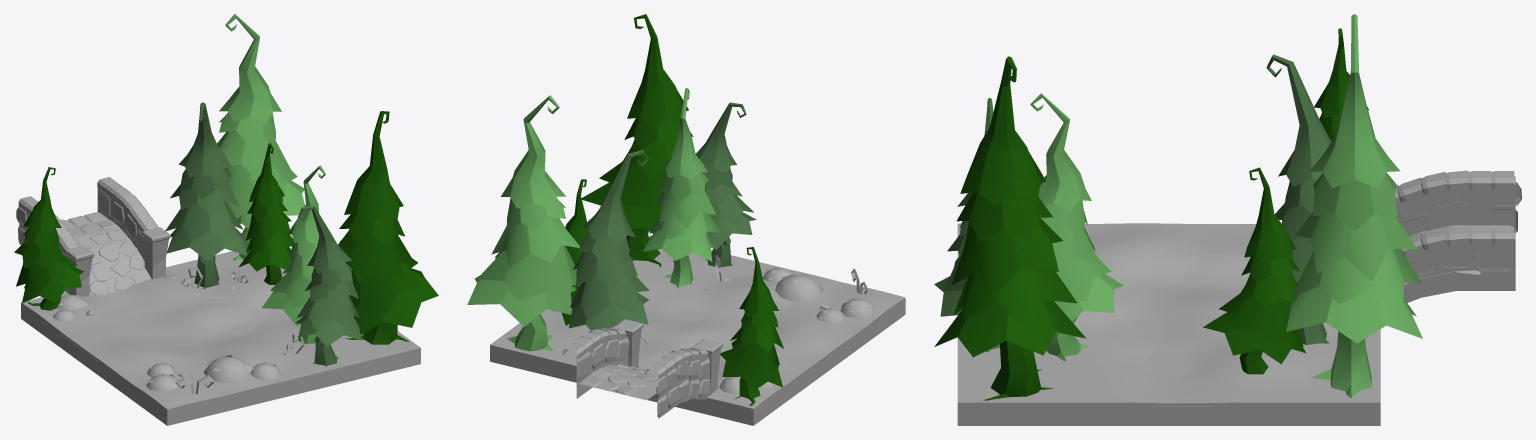
The model's file is entree_foret_v1.fbx.
The picture shows the model from 3 angles, left to right: view 1: azimuth 30°, elevation 25°; view 2: azimuth 150°, elevation 25°; view 3: azimuth 270°, elevation 25°; orthographic projection. The views are drawn at different scales.
Visible parts, largest first — view 1: sol26, sapin13, Pont, sapin8, sapin9, sol10, sapin11, sapin26, sapin10, sapin12, Buisson32, Buisson30 (+1 smaller); view 2: sol26, sapin8, Pont, sapin13, sapin9, sapin12, sol10, sapin26, sapin11, sapin10, Buisson32, Buisson30; view 3: sol26, sapin8, sapin13, Pont, sol10, sapin10, sapin12, sapin9, sapin26, sapin11.
Part boxes in pixels (<box>): sol26: <box>21,251,420,412</box>; sapin13: <box>338,111,438,344</box>; Pont: <box>16,177,170,297</box>; sapin8: <box>217,14,305,260</box>; sapin9: <box>165,102,247,289</box>; sol10: <box>21,306,420,425</box>; sapin11: <box>295,205,361,366</box>; sapin26: <box>14,167,84,310</box>; sapin10: <box>238,143,293,284</box>; sapin12: <box>262,165,325,343</box>; Buisson32: <box>204,355,252,382</box>; Buisson30: <box>146,373,179,391</box>; sol26: <box>490,235,905,412</box>; sapin8: <box>467,95,580,351</box>; Pont: <box>562,319,723,418</box>; sapin13: <box>581,14,693,267</box>; sapin9: <box>569,150,649,330</box>; sapin12: <box>643,88,719,288</box>; sol10: <box>490,301,905,425</box>; sapin26: <box>720,247,783,405</box>; sapin11: <box>696,102,756,267</box>; sapin10: <box>553,179,588,325</box>; Buisson32: <box>775,274,823,301</box>; Buisson30: <box>840,298,875,318</box>; sol26: <box>957,223,1380,406</box>; sapin8: <box>1286,14,1422,397</box>; sapin13: <box>934,56,1086,400</box>; Pont: <box>1395,170,1521,302</box>; sol10: <box>957,285,1380,425</box>; sapin10: <box>1203,167,1305,374</box>; sapin12: <box>1030,93,1123,361</box>; sapin9: <box>1266,54,1331,344</box>; sapin26: <box>1314,28,1368,141</box>; sapin11: <box>934,98,999,352</box>.
Size of the model in its own units: 939 by 788 by 1112.
